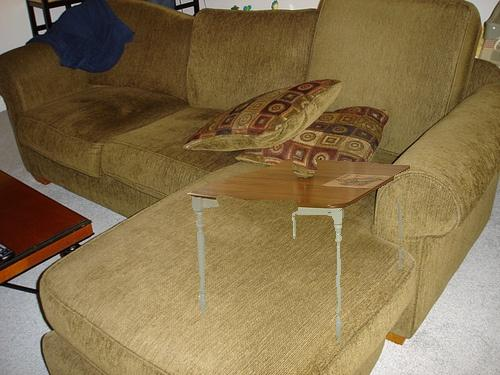tampered: (188, 160, 410, 343)
